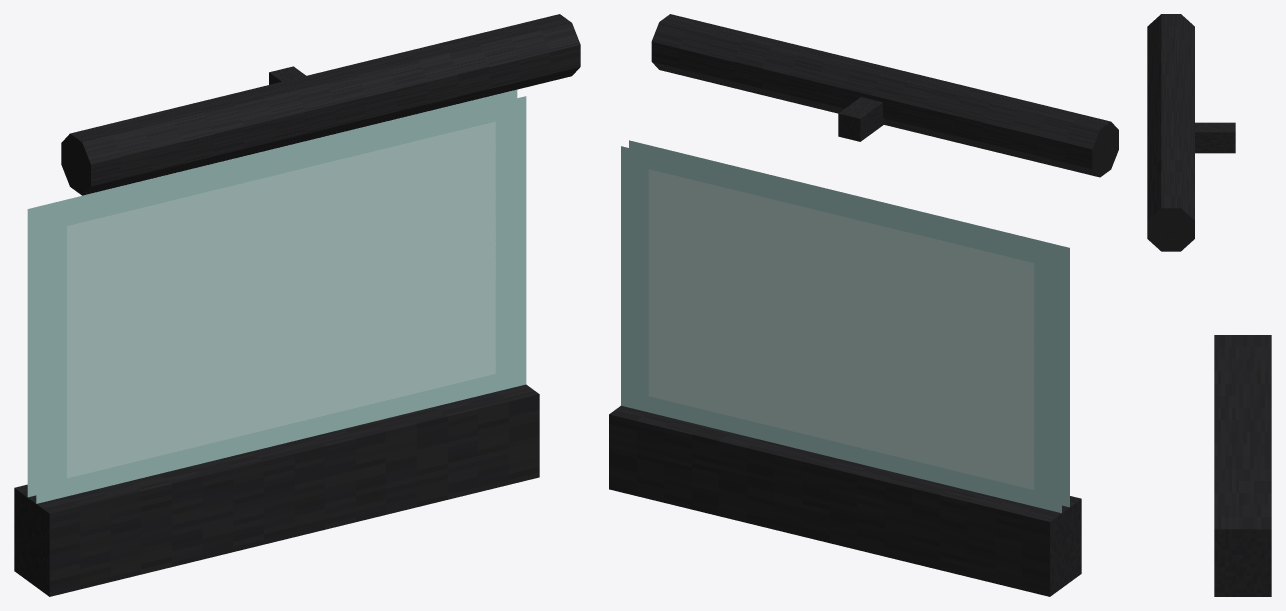
The model's file is level.obj.
The picture shows the model from 3 angles, left to right: view 1: azimuth 30°, elevation 25°; view 2: azimuth 150°, elevation 25°; view 3: azimuth 270°, elevation 25°; orthographic projection. The views are drawn at different scales.
Parts seen in each view (by area): view 1: railing_glass_black_level; view 2: railing_glass_black_level; view 3: railing_glass_black_level.
Part boxes in pixels (x1,y1,x2,y2): railing_glass_black_level: (14, 14, 580, 596); railing_glass_black_level: (609, 14, 1118, 596); railing_glass_black_level: (1147, 14, 1271, 596).
Bounding box in the file's own units: 1 × 0.9332 × 0.2707.
